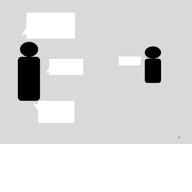left_oneway: (20, 9, 78, 40), (32, 98, 76, 126), (43, 54, 85, 77)
right_oneway: (113, 52, 143, 68)
